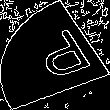P_SE: (17, 24, 93, 86)
